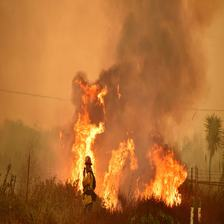fire: (67, 70, 186, 207)
